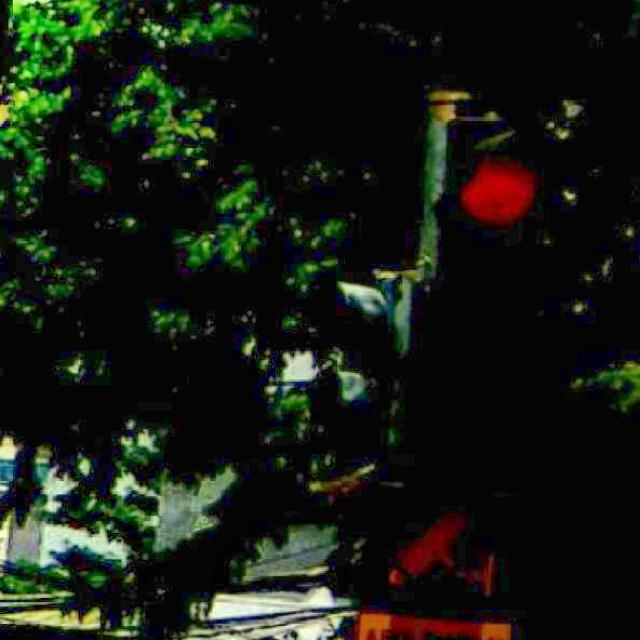red: (440, 124, 537, 401)
